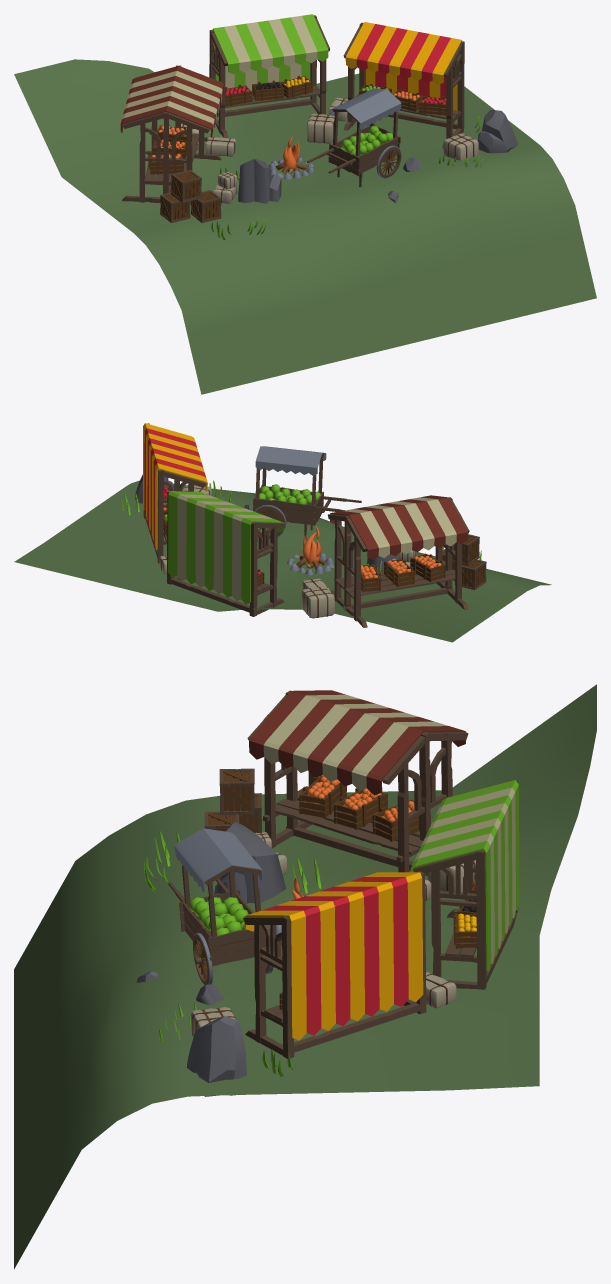
The model's file is Map.glb.
3 views of the same model, one above another, from view 1: azimuth 30°, elevation 25°; view 2: azimuth 150°, elevation 25°; view 3: azimuth 270°, elevation 25° (orthographic). The views are drawn at different scales.
Visible parts, largest first — view 1: Market Scene; view 2: Market Scene; view 3: Market Scene.
Part boxes in pixels (x1,y1,x2,y2): Market Scene: (14, 14, 596, 394); Market Scene: (14, 423, 551, 642); Market Scene: (14, 684, 596, 1269).
Bounding box in the file's own units: 2.74 × 1.37 × 2.25.
Materials: 2 (2 with a texture image).
